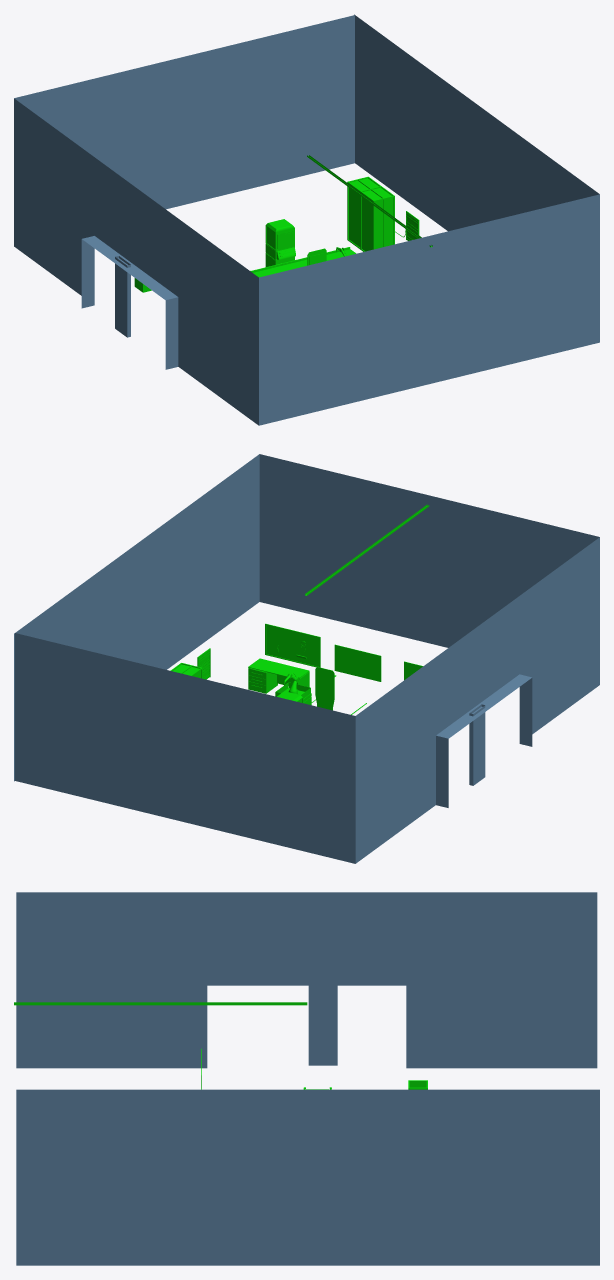
Rendered from Taller.fbx.
The picture shows the model from 3 angles, top to bottom: view 1: azimuth 30°, elevation 25°; view 2: azimuth 150°, elevation 25°; view 3: azimuth 270°, elevation 25°; orthographic projection. The views are drawn at different scales.
Parts seen in each view (by area): view 1: Pared_3, Pared_2, Pared_1, Pared_4, Discos, Paredsita, Maquina, Banda; view 2: Pared_2, Pared_3, Pared_1, Pared_4, Pizarron, Escritorio, Holografico_1, Paredsita, Estructura; view 3: Pared_4, Pared_1, Paredsita, Soporte_techo.
Boxes of the visible parts, box(x1,y1,x2,y2) form: Pared_3: box(259, 194, 599, 425); Pared_2: box(14, 15, 354, 209); Pared_1: box(14, 98, 258, 425); Pared_4: box(354, 14, 599, 231); Discos: box(347, 176, 394, 251); Paredsita: box(115, 256, 130, 337); Maquina: box(265, 219, 295, 266); Banda: box(250, 247, 355, 277); Pared_2: box(15, 633, 355, 863); Pared_3: box(259, 454, 599, 647); Pared_1: box(355, 537, 599, 863); Pared_4: box(14, 454, 259, 781); Pizarron: box(265, 623, 320, 667); Escritorio: box(248, 658, 309, 693); Holografico_1: box(334, 644, 381, 681); Paredsita: box(469, 704, 485, 785); Estructura: box(315, 667, 334, 710); Pared_4: box(16, 1089, 599, 1265); Pared_1: box(16, 892, 597, 1068); Paredsita: box(308, 985, 337, 1065); Soporte_techo: box(14, 1002, 307, 1005).
Size of the model in its own units: 22.92 by 9.23 by 27.72.
